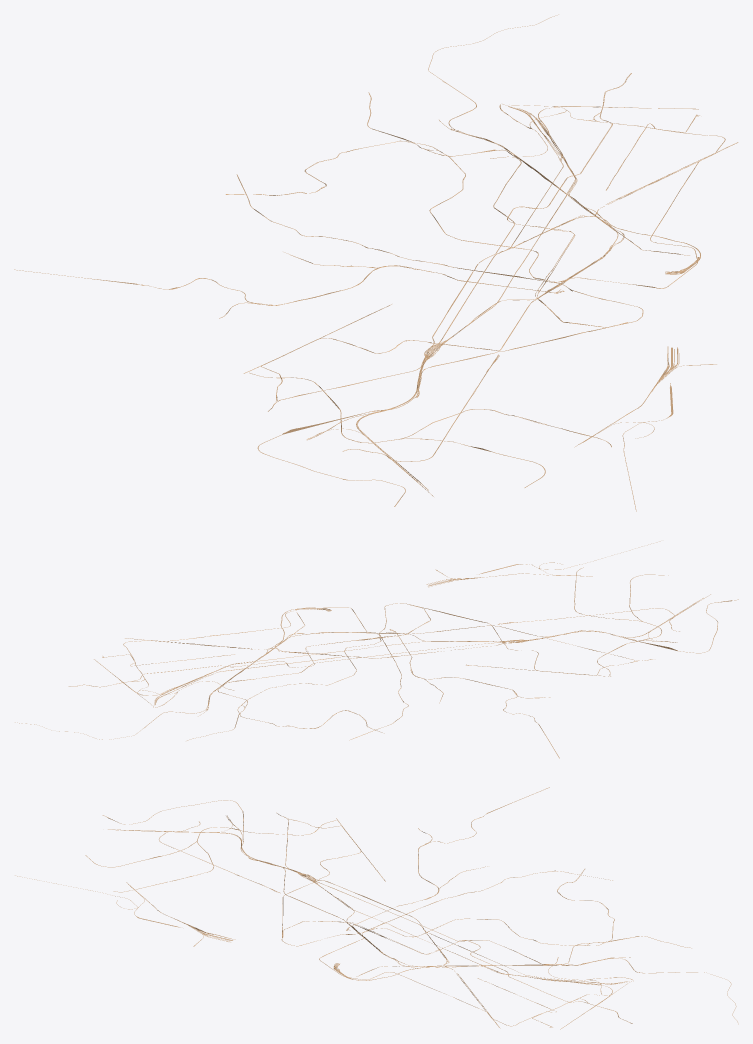
The model's file is rail.glb.
3 renders of one model, top to bottom at view 1: azimuth 30°, elevation 25°; view 2: azimuth 150°, elevation 25°; view 3: azimuth 270°, elevation 25°, orthographic. The views are drawn at different scales.
Parts seen in each view (by area): view 1: rail; view 2: rail; view 3: rail.
Part boxes in pixels (x1=…): rail: x1=14, y1=14, x2=738, y2=511; rail: x1=15, y1=541, x2=738, y2=758; rail: x1=15, y1=787, x2=738, y2=1029.
Size of the model in its own units: 10282 by 208 by 13526.
